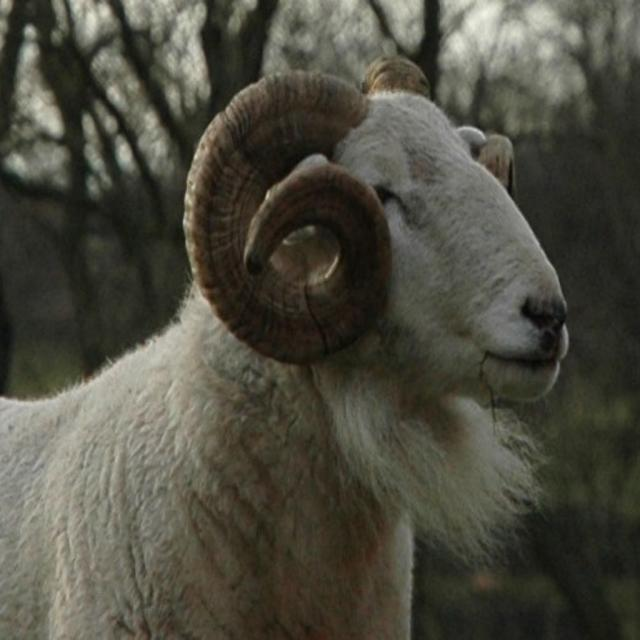Sheep: (0, 54, 569, 640)
